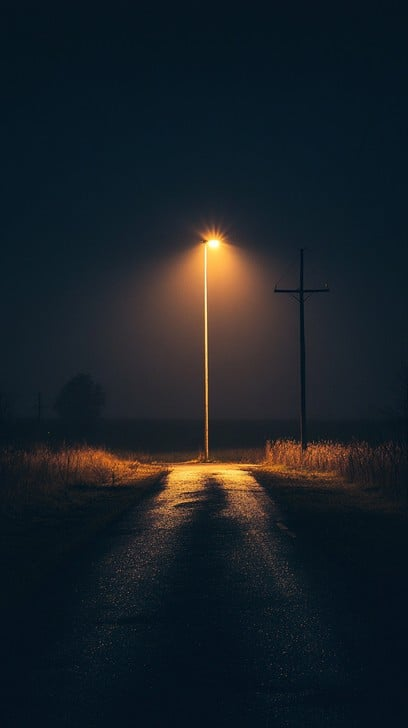Lamp: (182, 225, 236, 470)
